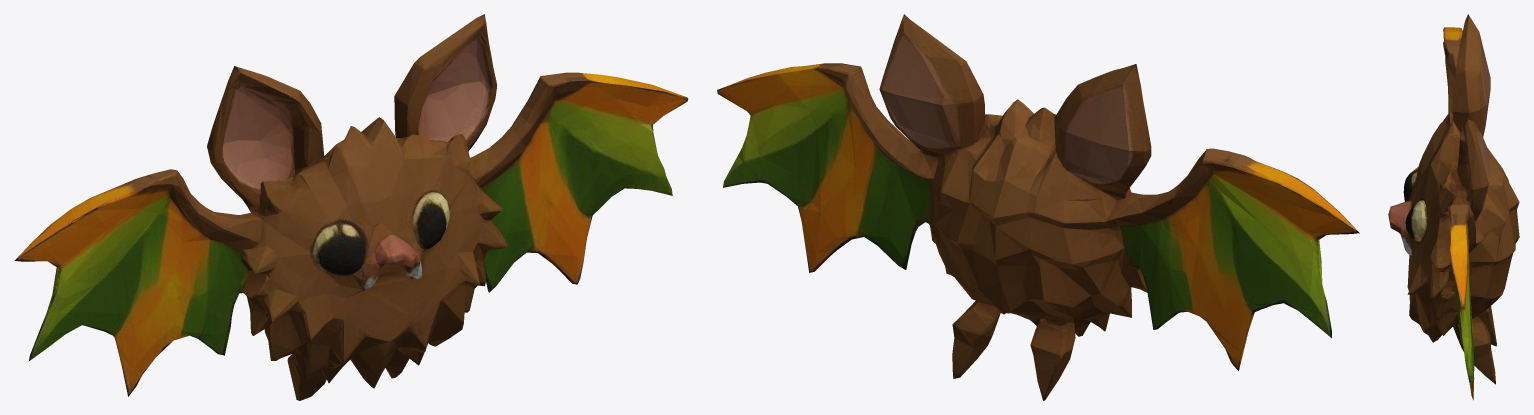
File: m_chauve_souris_feuille.glb
3 renders of one model, left to right at view 1: azimuth 30°, elevation 25°; view 2: azimuth 150°, elevation 25°; view 3: azimuth 270°, elevation 25°, orthographic. The views are drawn at different scales.
Parts seen in each view (by area): view 1: geometry_0; view 2: geometry_0; view 3: geometry_0.
Boxes of the visible parts, x1,y1,x2,y2 form: geometry_0: [14, 14, 688, 400]; geometry_0: [717, 14, 1359, 400]; geometry_0: [1388, 14, 1519, 400].
Size of the model in its own units: 0.9958 by 0.5148 by 0.2043.
Materials: 1 (1 with a texture image).
